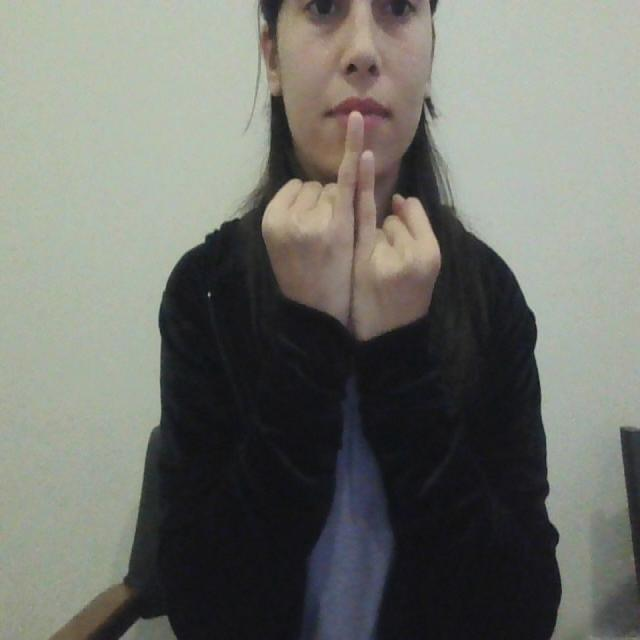Kardes: (255, 104, 442, 350)
